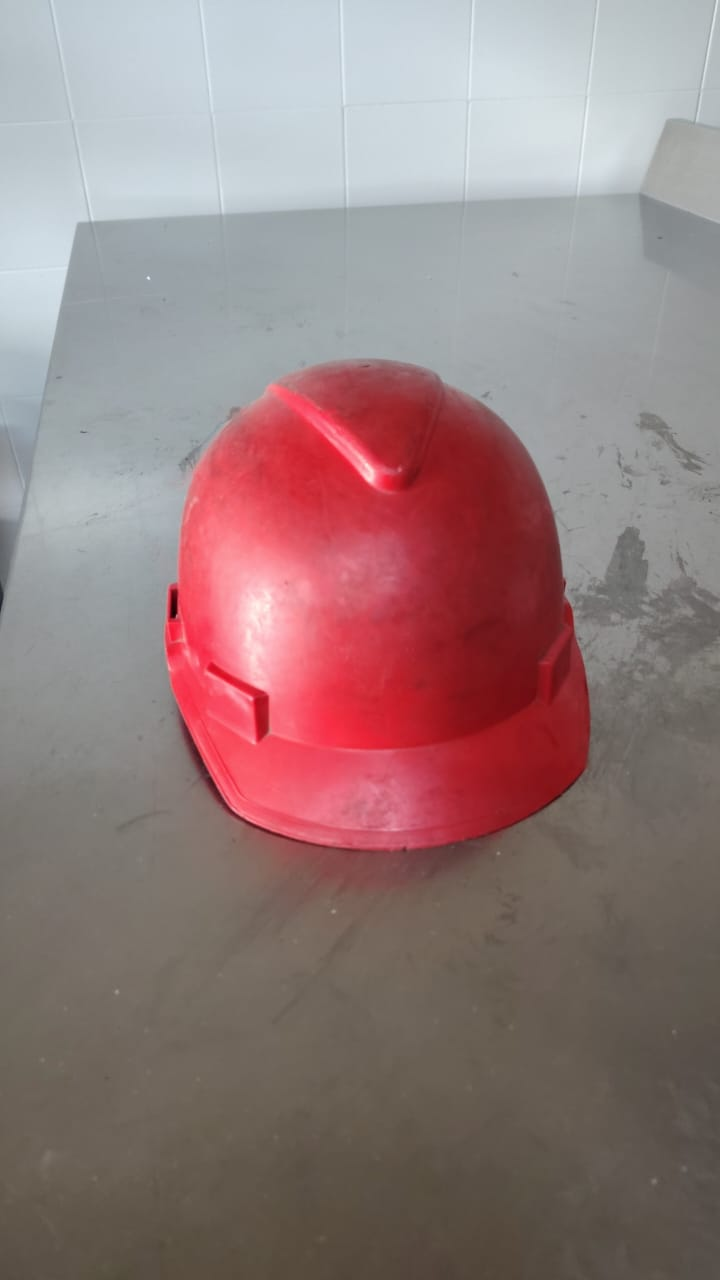Plastico: (166, 361, 589, 852)
